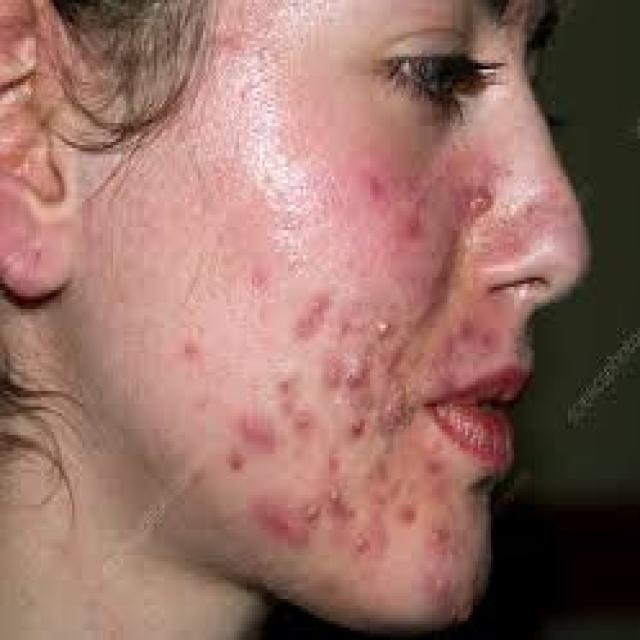Acne: (256, 494, 322, 553), (290, 289, 336, 345), (320, 351, 372, 394), (234, 410, 281, 452), (423, 441, 451, 504), (325, 483, 359, 524), (350, 525, 385, 563), (362, 164, 389, 206), (399, 200, 426, 242), (464, 184, 500, 215), (346, 408, 373, 444), (244, 260, 271, 295), (290, 406, 318, 437), (427, 572, 453, 603), (426, 518, 450, 550), (224, 449, 249, 478), (374, 314, 397, 342)
